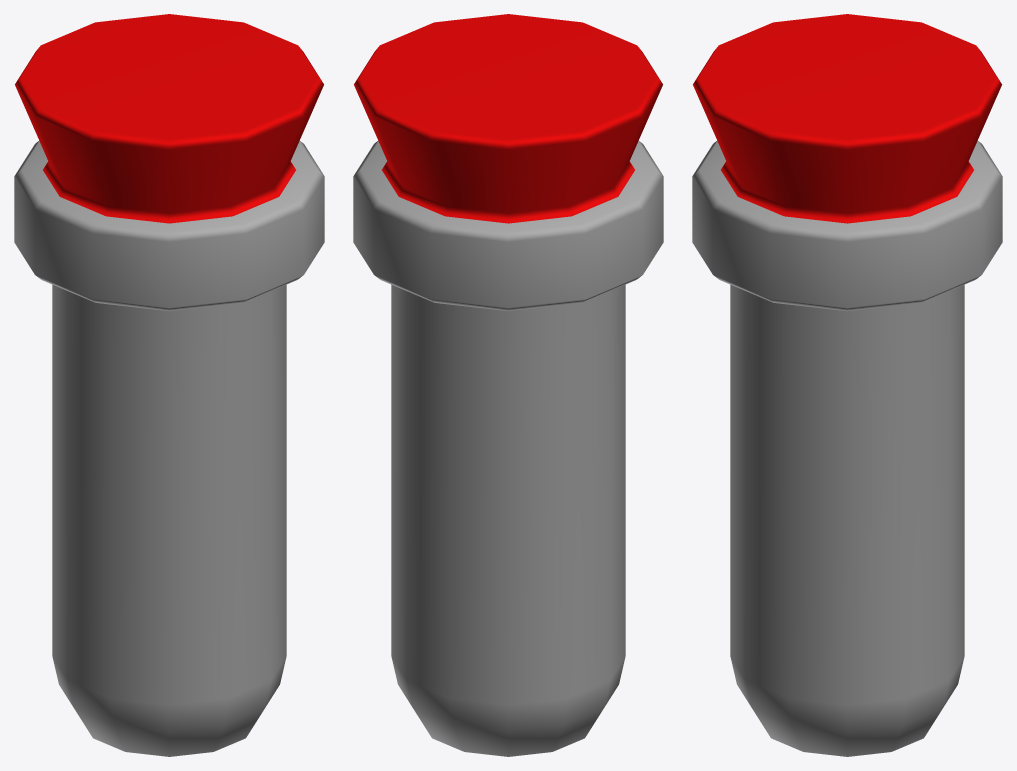
Rendered from Potion Rate.fbx.
The picture shows the model from 3 angles, left to right: view 1: azimuth 30°, elevation 25°; view 2: azimuth 150°, elevation 25°; view 3: azimuth 270°, elevation 25°; orthographic projection.
Parts seen in each view (by area): view 1: pCylinder8; view 2: pCylinder8; view 3: pCylinder8.
Boxes of the visible parts, box(x1,y1,x2,y2) form: pCylinder8: box(14, 14, 324, 756); pCylinder8: box(353, 14, 663, 756); pCylinder8: box(692, 14, 1002, 756).
Bounding box in the file's own units: 0.6276 × 1.48 × 0.6276.
